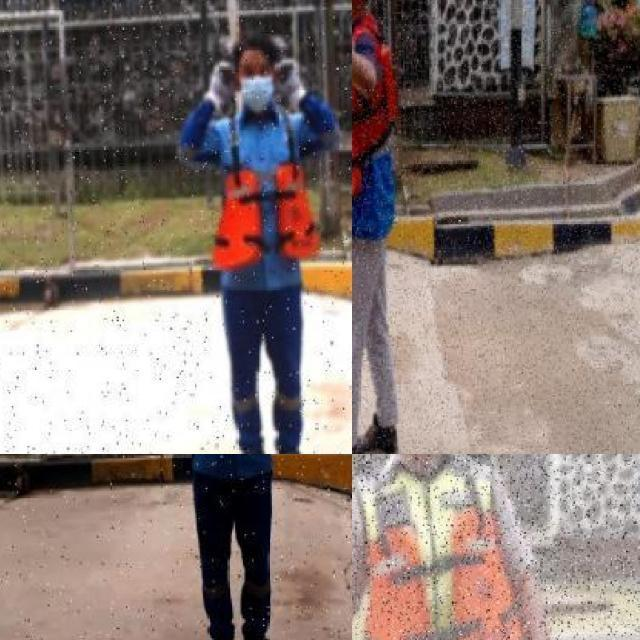apron: (202, 60, 239, 113), (271, 59, 307, 110)
